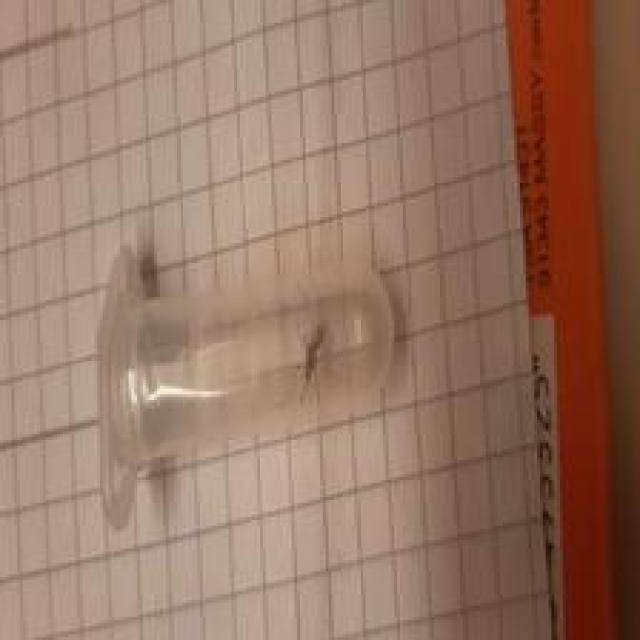Culex: (94, 234, 400, 529)
